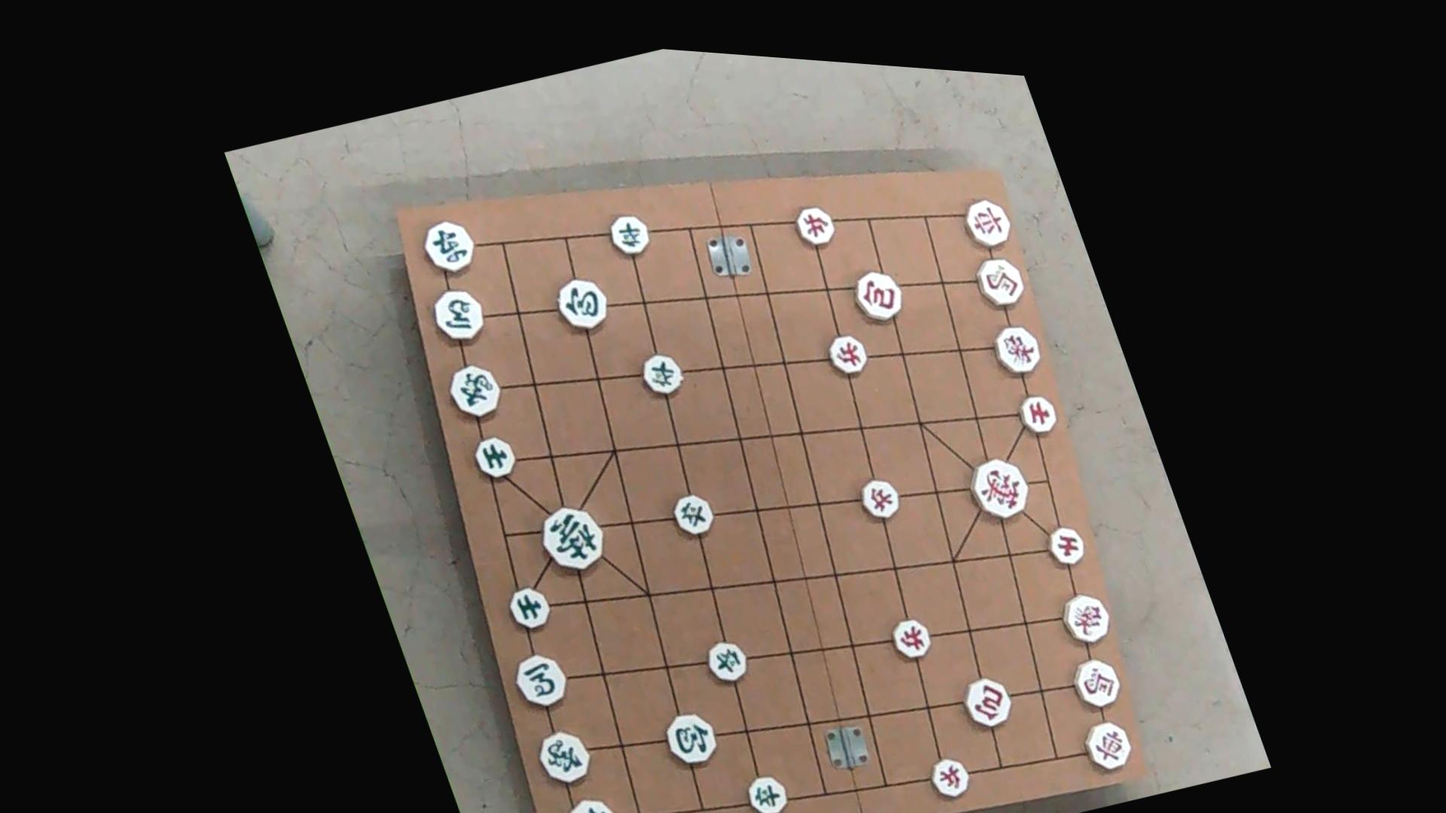cha_green: (416, 215, 482, 281), (560, 793, 625, 813)
cha_red: (957, 195, 1015, 254), (1076, 716, 1134, 774)
jol_green: (668, 490, 719, 542), (702, 638, 753, 689), (636, 349, 687, 400), (604, 210, 654, 261), (742, 770, 792, 813)
jol_red: (923, 754, 972, 804), (884, 612, 933, 662), (822, 332, 871, 381), (855, 474, 903, 524), (790, 200, 837, 249)
ma_green: (424, 281, 489, 347), (509, 647, 573, 713)
ma_red: (972, 255, 1030, 315), (1067, 656, 1125, 715)
po_green: (550, 274, 614, 338), (660, 709, 723, 773)
po_red: (848, 265, 909, 327), (959, 674, 1017, 735)
sa_green: (466, 431, 517, 483), (504, 582, 555, 634)
sa_red: (1014, 391, 1061, 440), (1042, 522, 1088, 571)
sang_green: (441, 358, 505, 425), (532, 723, 596, 789)
sang_red: (1054, 589, 1115, 650), (989, 320, 1046, 380)
wang_green: (534, 501, 613, 581)
wang_red: (962, 453, 1033, 527)
